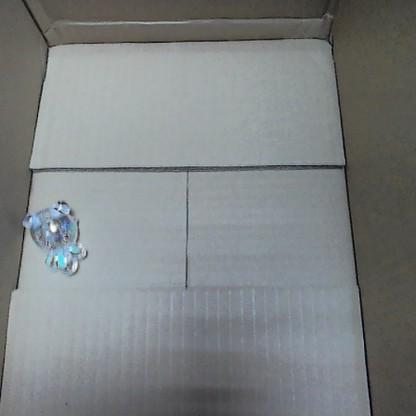whitefish: (17, 200, 87, 275)
